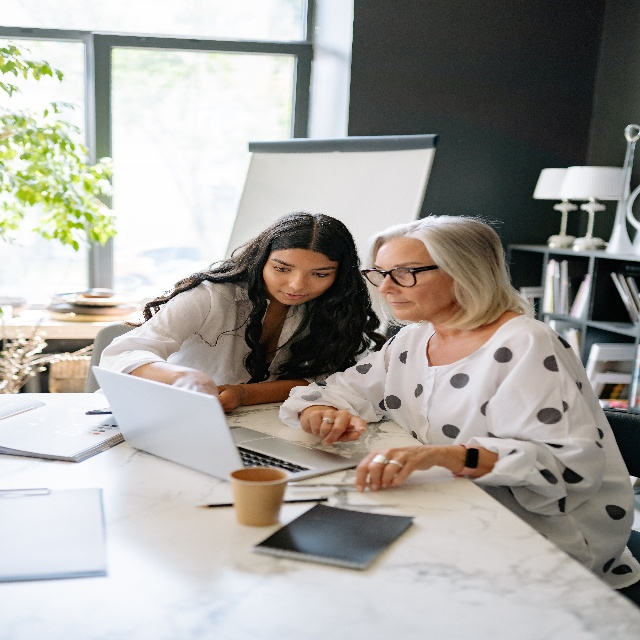Gafas: (362, 263, 432, 287)
Sin_guantes: (355, 446, 441, 493), (298, 405, 369, 450), (215, 378, 243, 414)
